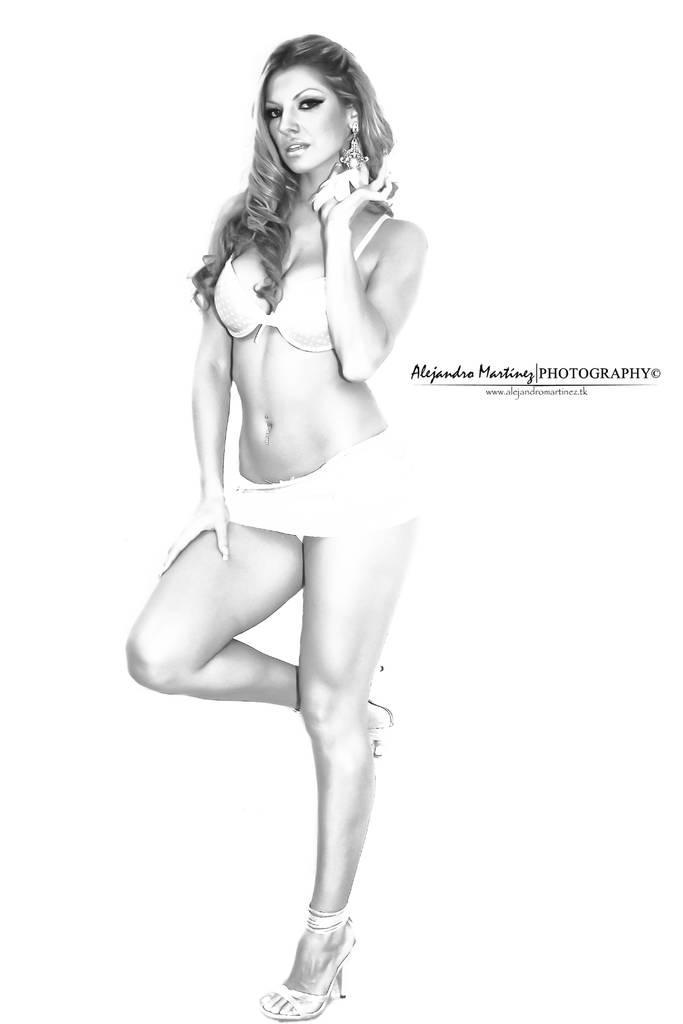face: (250, 55, 367, 177)
